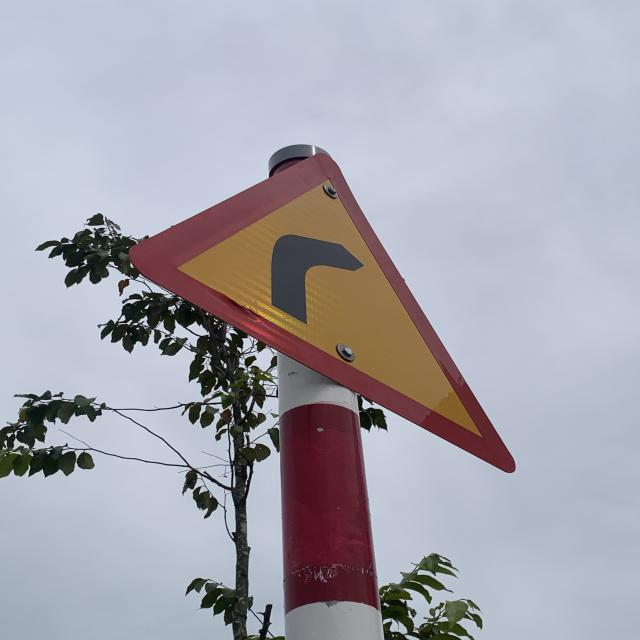Duong_Nguoi_Di_Bo_Cat_Ngang: (125, 152, 520, 474)
